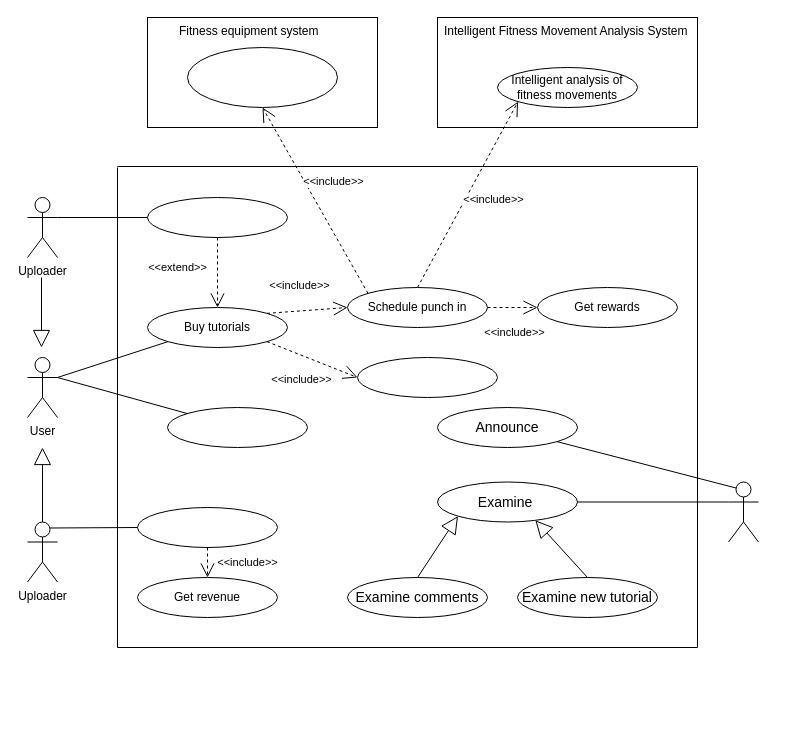
This 796x749 diagram has some shape labels left out. The shapes that lost their labels are listed below. From the top down, each one's centre as x and y in pixels, then its label:
At (x=262, y=77): "Recommended fitness equipment by the system".
At (x=217, y=217): "Get discount".
At (x=427, y=377): "Quit tutorials".
At (x=237, y=427): "Browse the tutorial".
At (x=207, y=527): "Release tutorial".
At (x=743, y=511): "Administrator".
